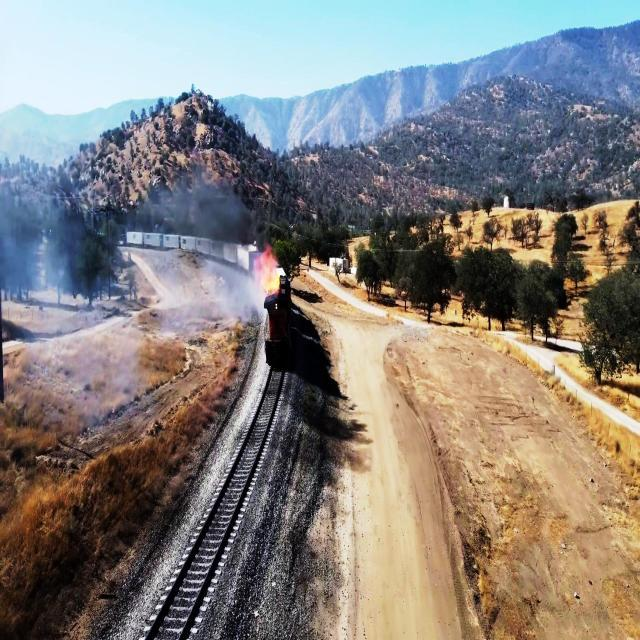Fire: (252, 248, 290, 306)
Smoke: (1, 78, 250, 398)
